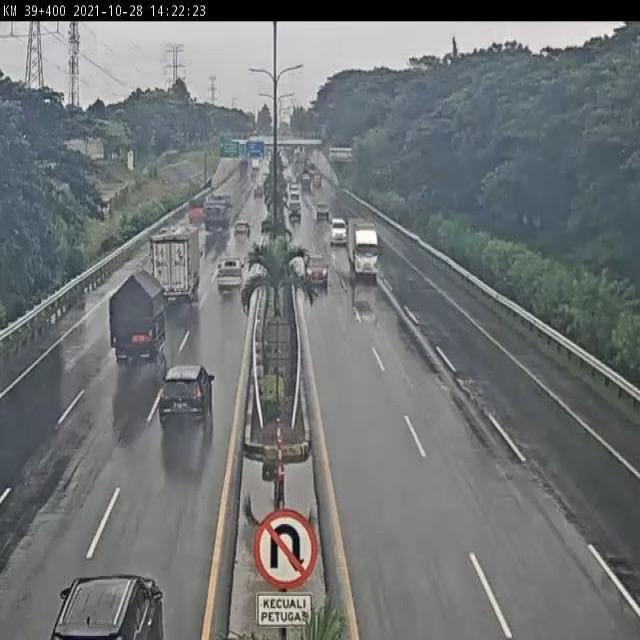car: (156, 362, 217, 429), (215, 254, 245, 298), (303, 251, 329, 285), (231, 220, 253, 240)
truck-l-: (149, 227, 201, 301), (196, 197, 229, 240)
truck-m-: (109, 269, 169, 364)
truck-s-: (344, 213, 382, 283), (187, 196, 208, 227)
